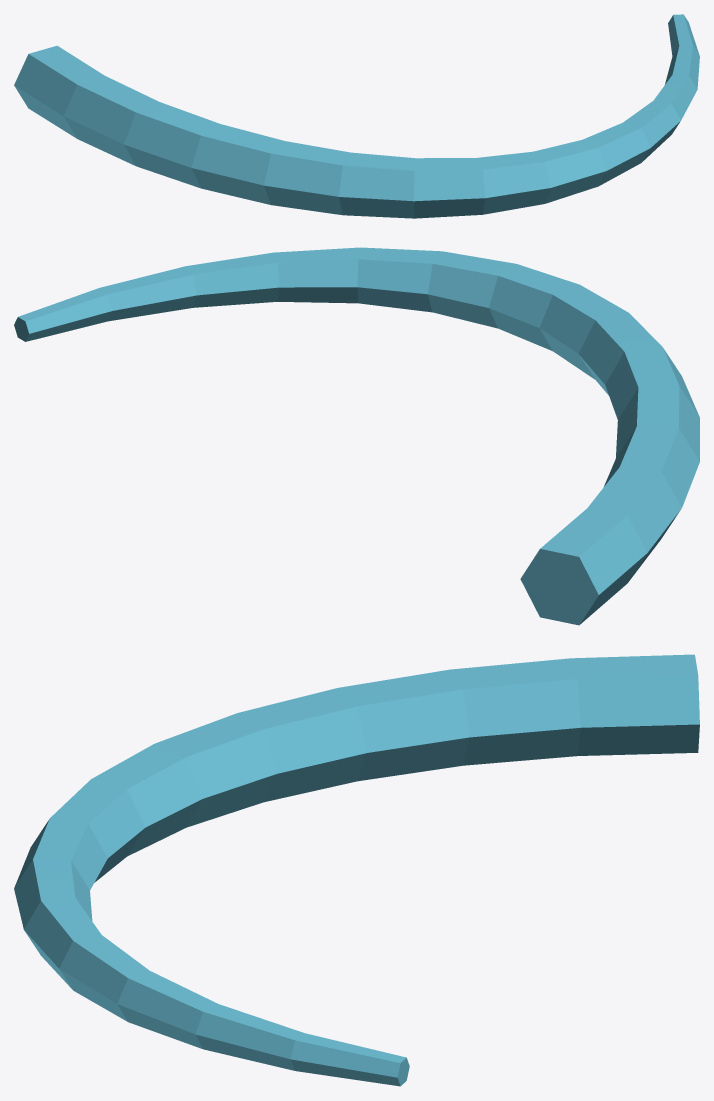
Rendered from blade-sickle.glb.
3 views of the same model, one above another, from view 1: azimuth 30°, elevation 25°; view 2: azimuth 150°, elevation 25°; view 3: azimuth 270°, elevation 25° (orthographic). The views are drawn at different scales.
Parts seen in each view (by area): view 1: m; view 2: m; view 3: m.
Boxes of the visible parts, <box> form: m: <box>14,14,699,218</box>; m: <box>14,247,699,625</box>; m: <box>14,654,699,1086</box>.
Bounding box in the file's own units: 0.1362 × 0.0125 × 0.1.
